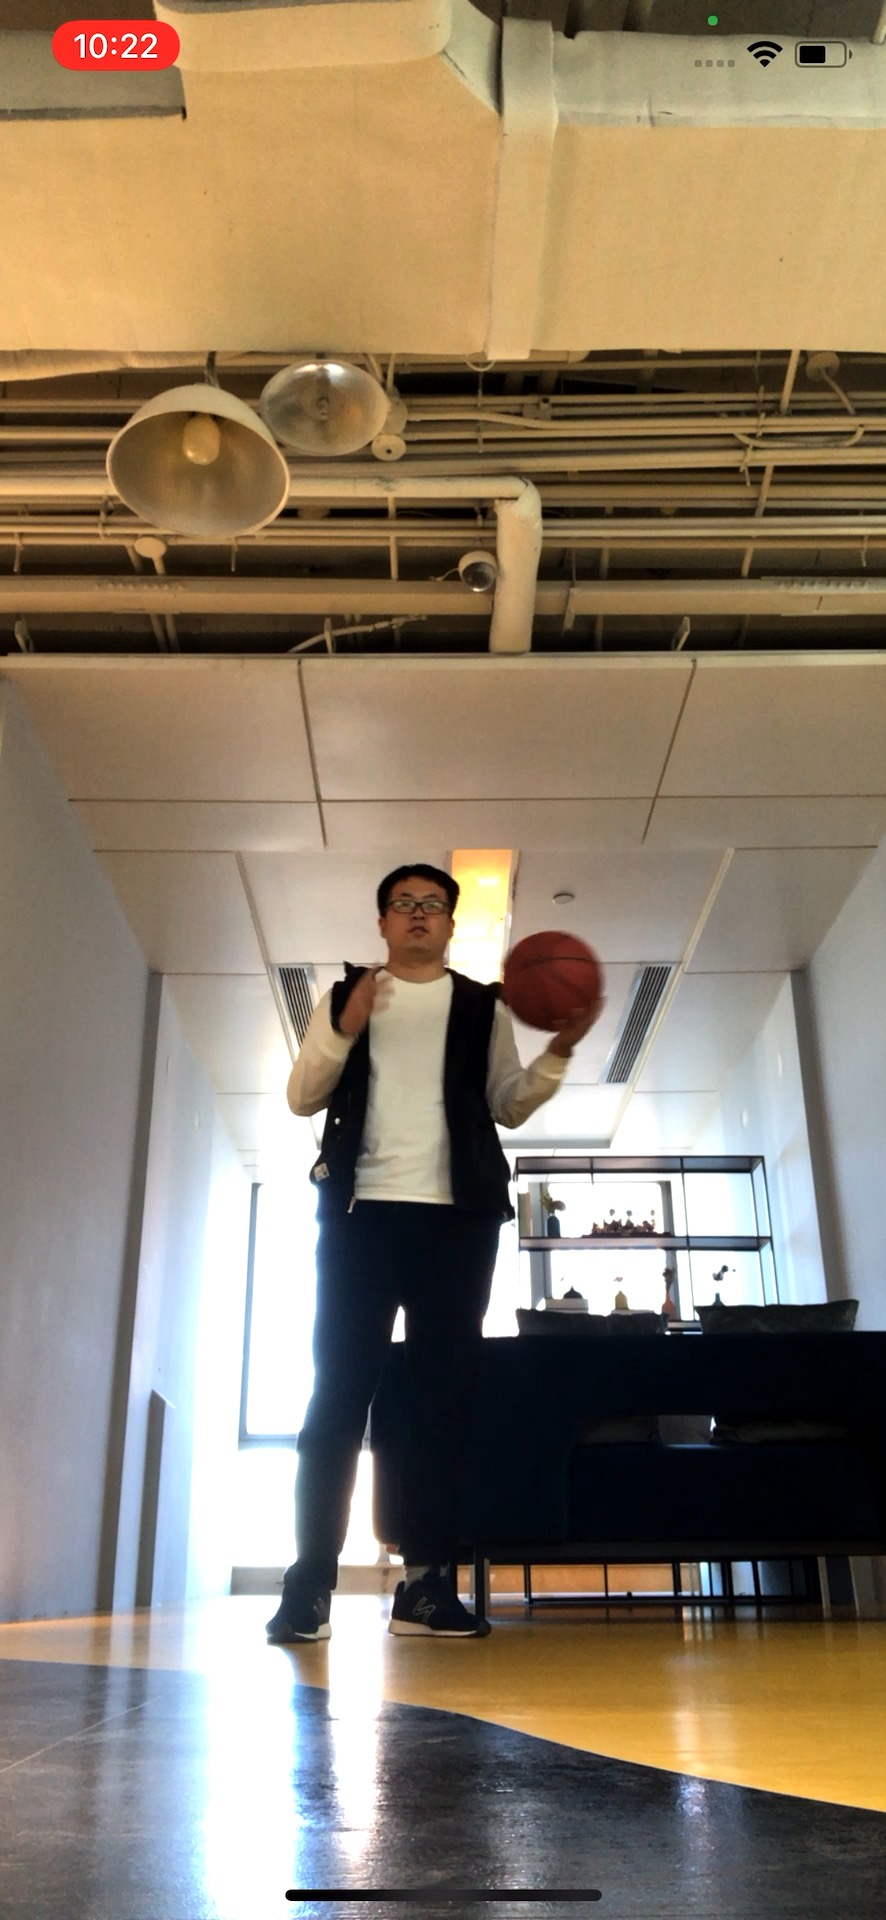ball: (504, 933, 606, 1037)
